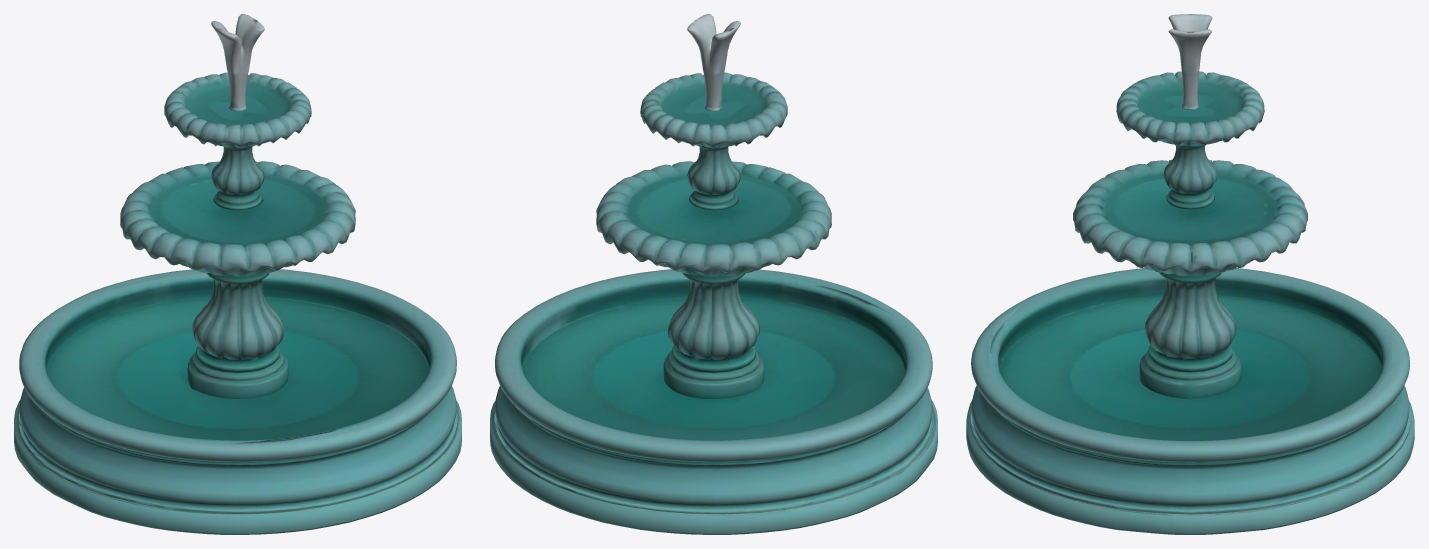
Rendered from Outdoor__fountain_12fc89f5_v2.cluster.glb.
3 views of the same model, side by side, from view 1: azimuth 30°, elevation 25°; view 2: azimuth 150°, elevation 25°; view 3: azimuth 270°, elevation 25° (orthographic).
Visible parts, largest first — view 1: material; view 2: material; view 3: material.
Part boxes in pixels (<box>): material: <box>14,14,461,534</box>; material: <box>490,14,937,534</box>; material: <box>966,14,1414,534</box>.
Bounding box in the file's own units: 1.85 × 1.9 × 1.85.
Materials: 1 (1 with a texture image).
